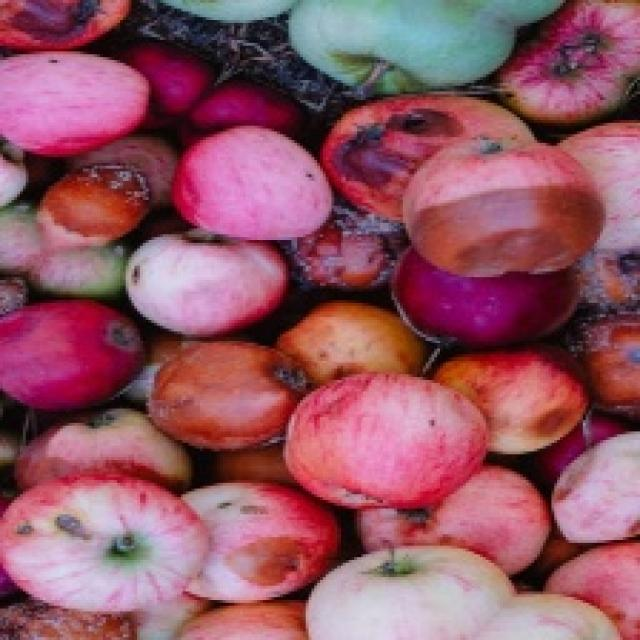rotten_apple: (405, 137, 593, 271), (155, 344, 295, 448), (201, 488, 323, 595), (481, 351, 578, 449), (332, 103, 422, 208), (36, 163, 145, 247), (510, 46, 615, 129), (301, 215, 388, 288), (582, 315, 640, 417), (0, 0, 123, 43)
